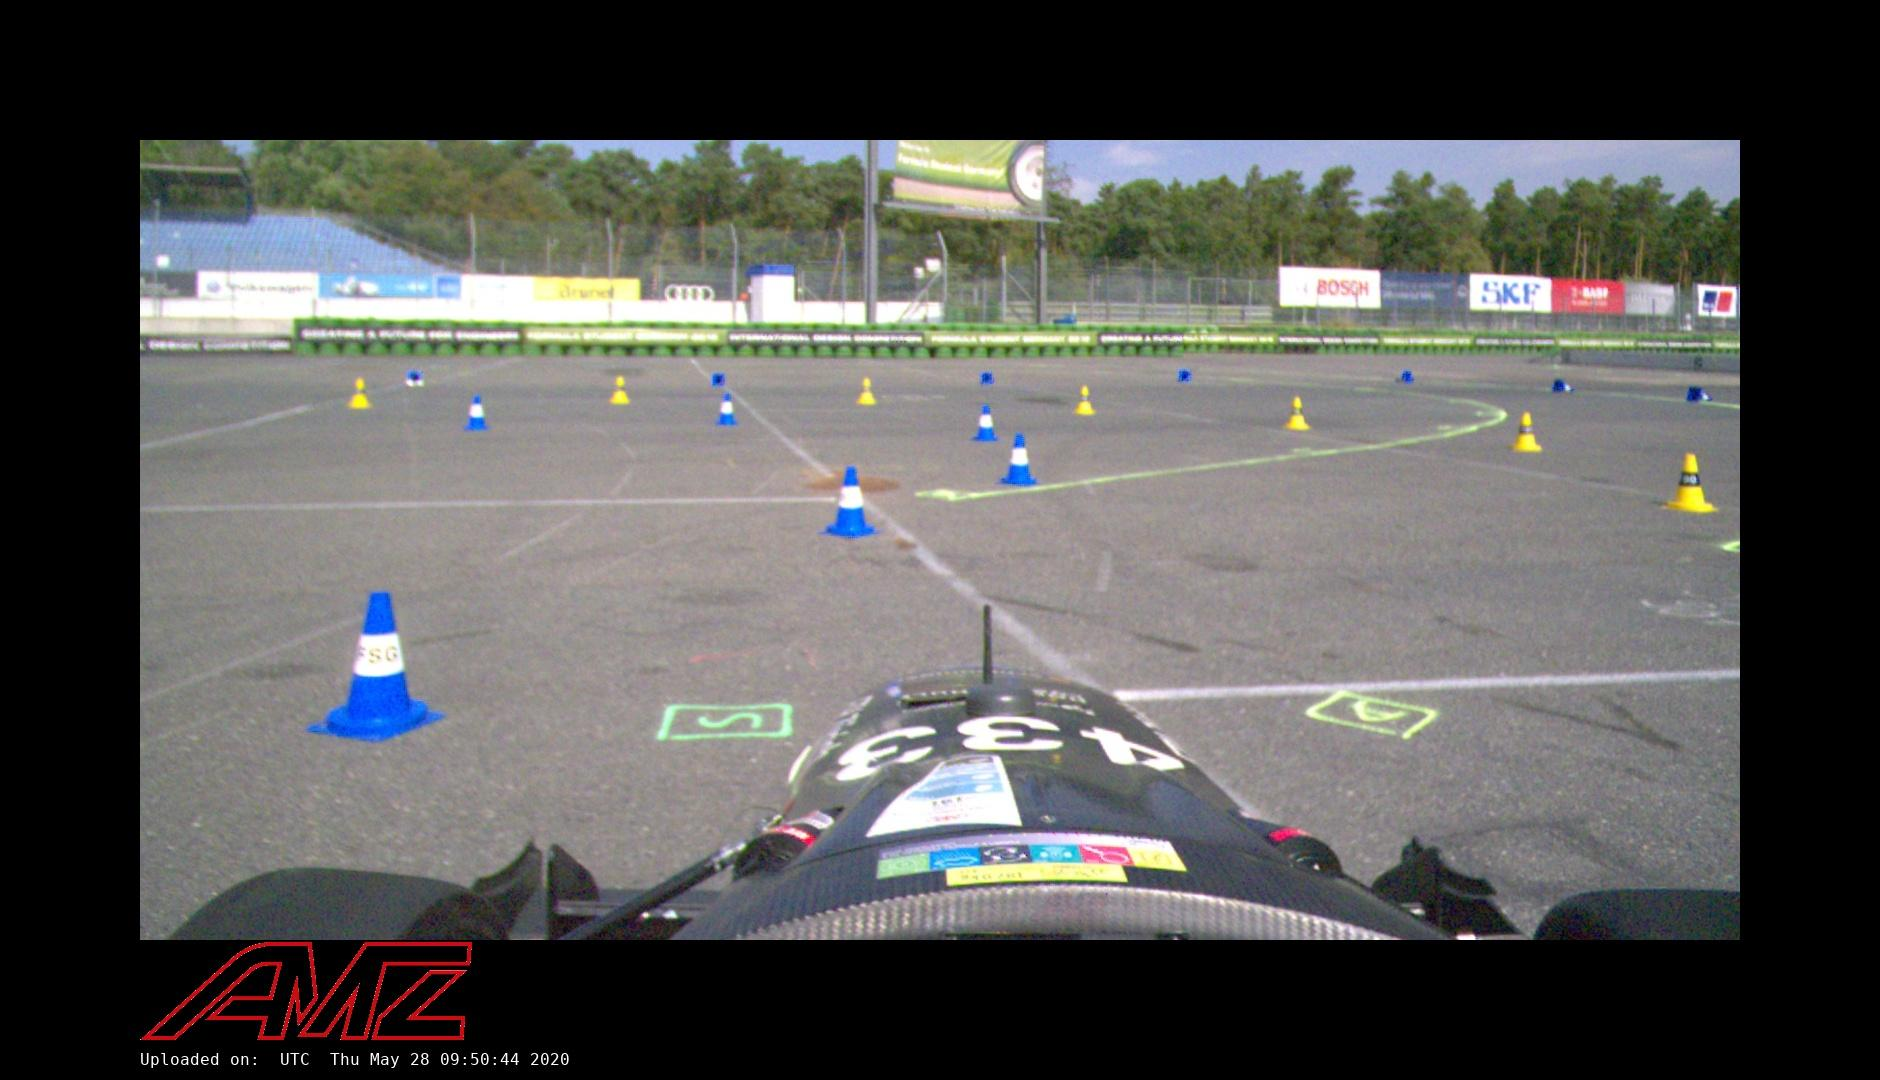blue_cone: (307, 590, 448, 744), (819, 466, 881, 539), (997, 431, 1039, 484), (972, 403, 1001, 443), (462, 394, 491, 431), (714, 391, 739, 426), (1685, 384, 1713, 403), (1551, 379, 1577, 395), (404, 368, 424, 388), (1395, 369, 1414, 384), (980, 369, 996, 386), (710, 372, 726, 388), (1178, 369, 1192, 382)
yellow_cone: (1660, 452, 1719, 513), (1508, 412, 1544, 453), (1282, 397, 1313, 431), (345, 375, 371, 408), (1072, 385, 1098, 413), (855, 377, 879, 406), (608, 376, 631, 406)
